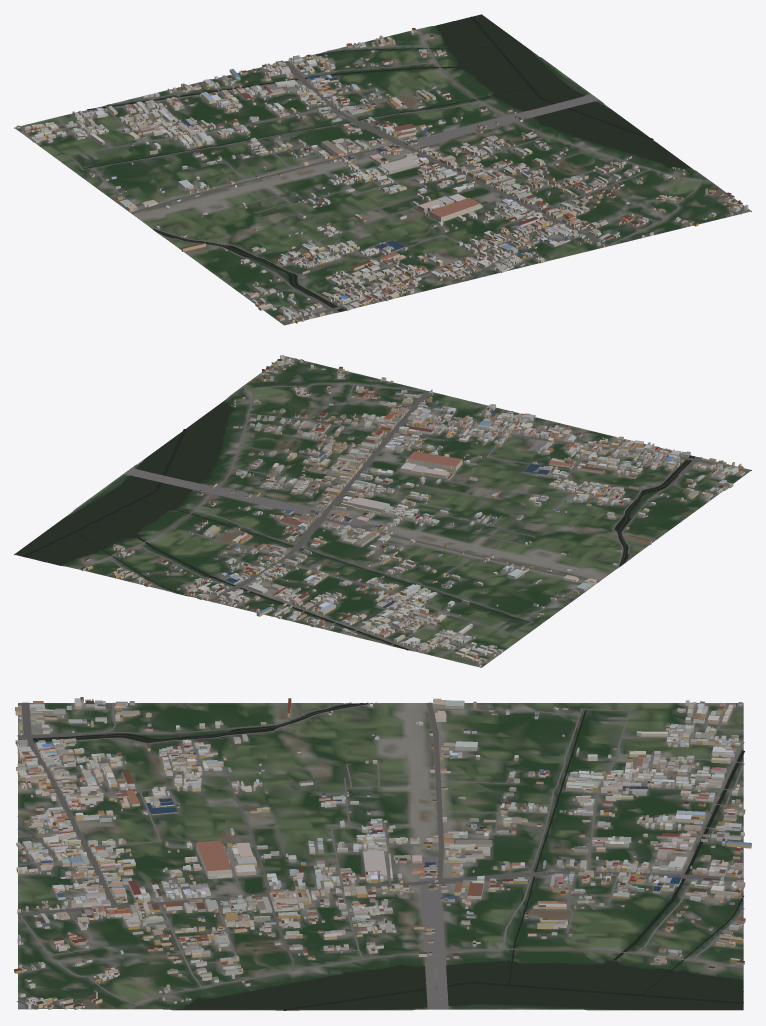
The picture shows the model from 3 angles, top to bottom: view 1: azimuth 30°, elevation 25°; view 2: azimuth 150°, elevation 25°; view 3: azimuth 270°, elevation 25°; orthographic projection. The views are drawn at different scales.
Parts seen in each view (by area): view 1: ground, buildings, water, roads; view 2: ground, buildings, water, roads; view 3: ground, buildings, water, roads.
Boxes of the visible parts, bbox=[...] form: ground: bbox=[14, 16, 751, 325]; buildings: bbox=[16, 28, 748, 323]; water: bbox=[83, 14, 692, 311]; roads: bbox=[20, 29, 744, 324]; ground: bbox=[14, 356, 751, 667]; buildings: bbox=[80, 355, 744, 666]; water: bbox=[15, 399, 695, 650]; roads: bbox=[77, 358, 749, 666]; ground: bbox=[18, 703, 743, 1010]; buildings: bbox=[14, 697, 751, 1009]; water: bbox=[19, 702, 744, 1010]; roads: bbox=[17, 702, 744, 1009].
Bounding box in the file's own units: 1411 × 20.49 × 1424.
